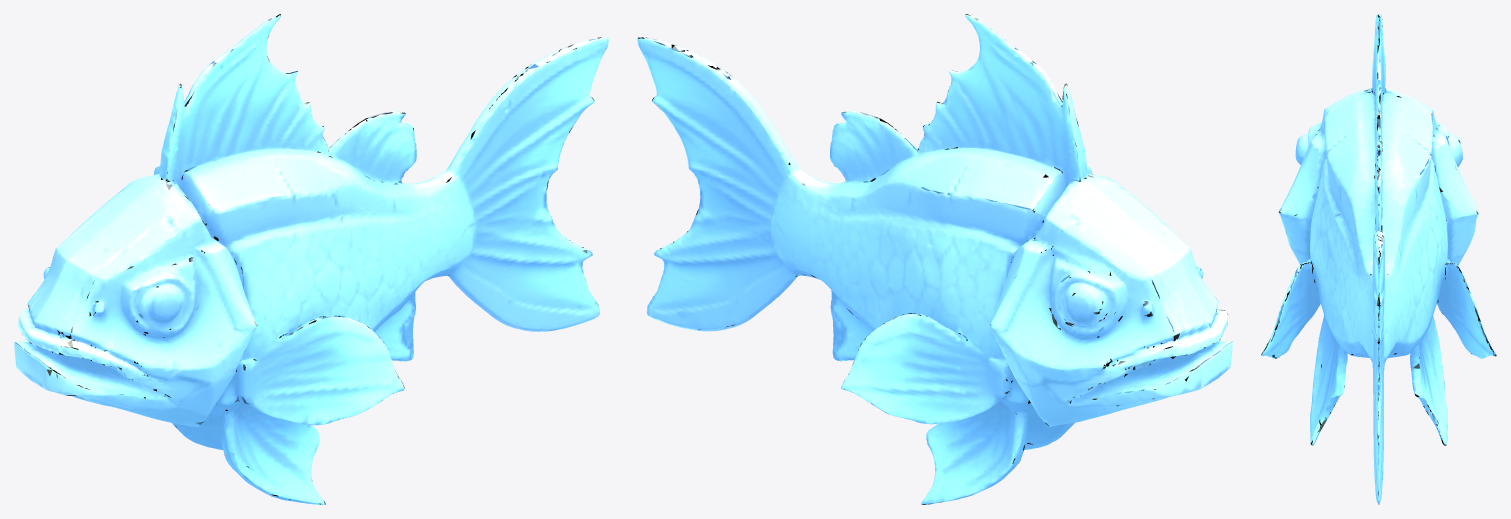
Rendered from sloyd-fish.glb.
3 renders of one model, left to right at view 1: azimuth 30°, elevation 25°; view 2: azimuth 150°, elevation 25°; view 3: azimuth 270°, elevation 25°, orthographic. The views are drawn at different scales.
Visible parts, largest first — view 1: StoneFish; view 2: StoneFish; view 3: StoneFish.
Boxes of the visible parts, box(x1,y1,x2,y2) form: StoneFish: box(14, 14, 608, 504); StoneFish: box(637, 14, 1232, 504); StoneFish: box(1261, 14, 1496, 504).
Bounding box in the file's own units: 0.4002 × 0.3066 × 0.1537.
1 material, 1 textured.
